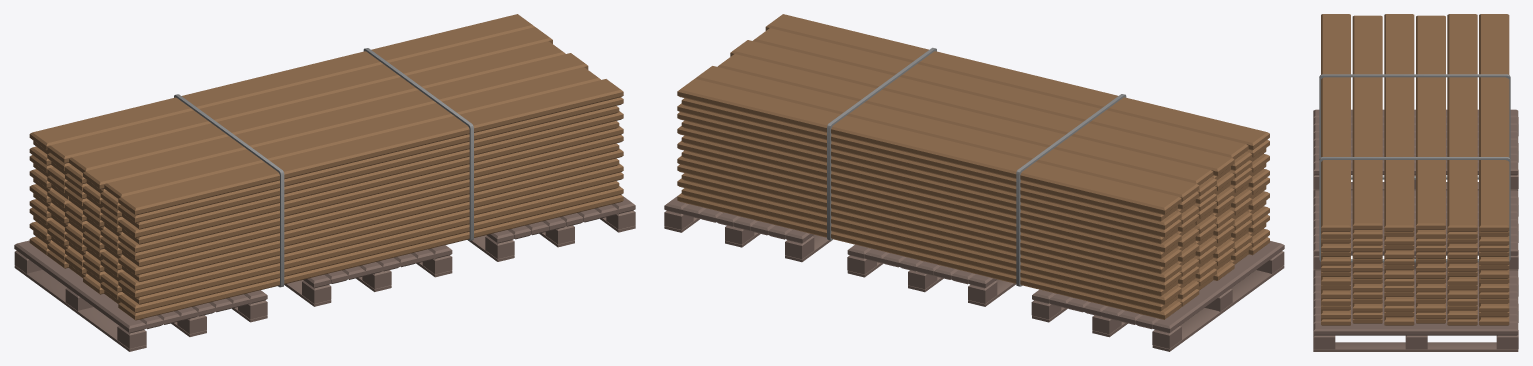
File: props_04.glb
3 renders of one model, left to right at view 1: azimuth 30°, elevation 25°; view 2: azimuth 150°, elevation 25°; view 3: azimuth 270°, elevation 25°, orthographic. The views are drawn at different scales.
Parts seen in each view (by area): view 1: props_04; view 2: props_04; view 3: props_04.
Part boxes in pixels (x1,y1,x2,y2): props_04: (14, 14, 635, 351); props_04: (664, 14, 1284, 351); props_04: (1313, 14, 1518, 351).
Bounding box in the file's own units: 7.26 × 1.92 × 2.85.
Materials: 1 (1 with a texture image).
